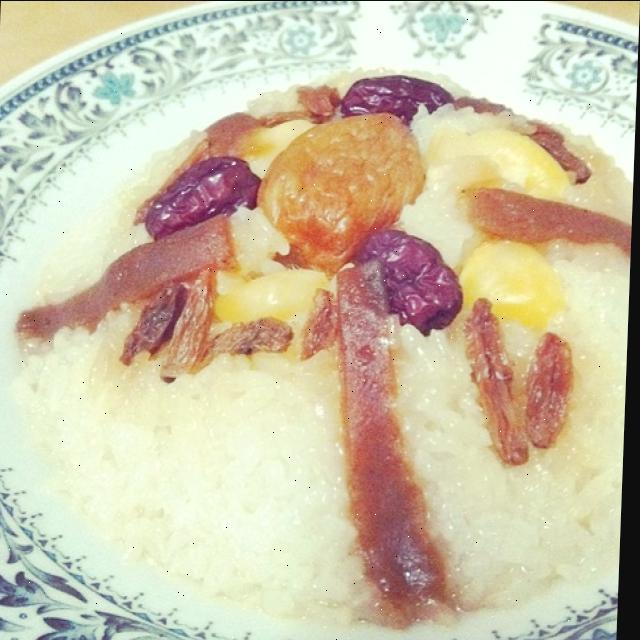米饭主食: (0, 9, 640, 616)
